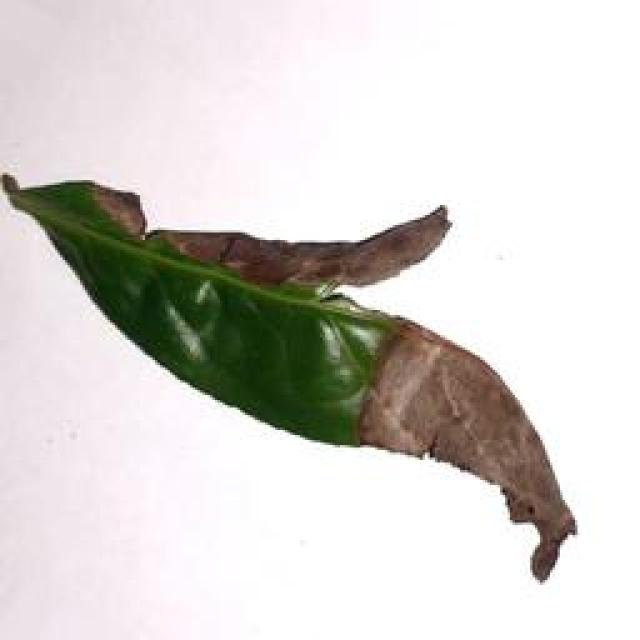Brown Blight: (0, 135, 582, 582)
